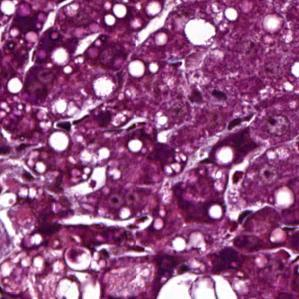ballooning: (154, 269, 240, 299)
